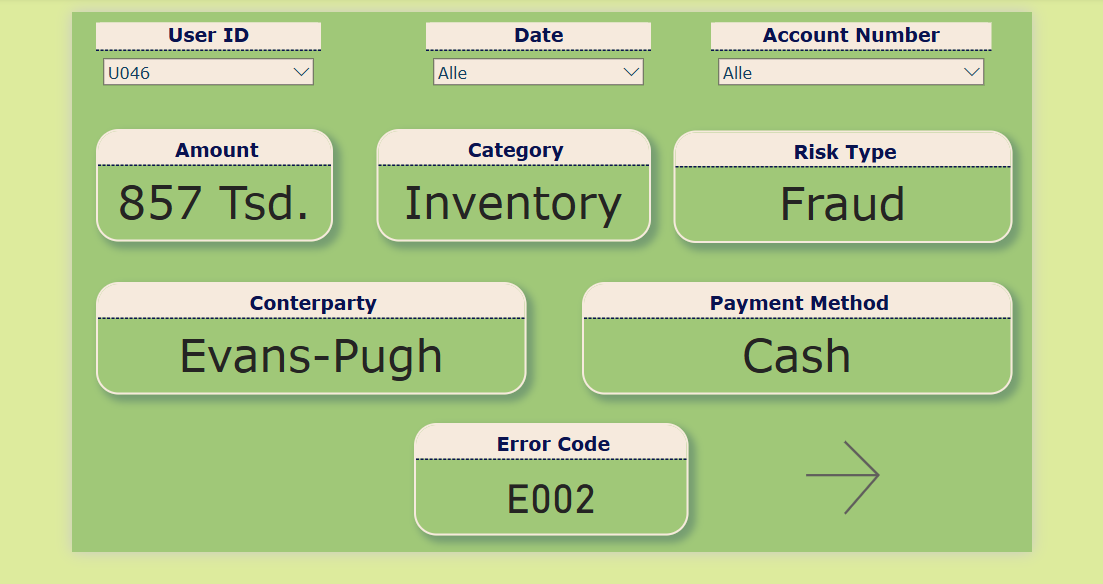

The page's visual inventory and layout, read from the dashboard file:
{"tool":"powerbi","page":{"name":"Seite 1","canvas":[1280,720],"ordinal":0},"visuals":[{"type":"slicer","title":"Date","fields":{"Values":["cleansed_accounting.Date.Variation.Datumshierarchie.Jahr","cleansed_accounting.Date.Variation.Datumshierarchie.Quartal","cleansed_accounting.Date.Variation.Datumshierarchie.Monat","cleansed_accounting.Date.Variation.Datumshierarchie.Tag"]},"box":[472,14,300,122],"z":0},{"type":"slicer","title":"User ID ","fields":{"Values":["cleansed_accounting.User_ID"]},"box":[32,14,300,122],"z":1000},{"type":"slicer","title":"Account Number","fields":{"Values":["cleansed_accounting.Account_Number"]},"box":[852,14,374,160],"z":2000},{"type":"card","title":"Amount","fields":{"Values":["Sum(cleansed_accounting.Amount)"]},"box":[32,156,316,150],"z":3000},{"type":"card","title":"Category","fields":{"Values":["Min(cleansed_accounting.Category)"]},"box":[406,156,366,150],"z":4000},{"type":"card","title":"Conterparty","fields":{"Values":["Min(cleansed_accounting.Counterparty)"]},"box":[32,360,574,150],"z":5000},{"type":"card","title":"Payment Method","fields":{"Values":["Min(cleansed_accounting.Payment_Method)"]},"box":[680,360,574,150],"z":6000},{"type":"card","title":"Risk Type","fields":{"Values":["Min(cleansed_accounting.Risk_Type)"]},"box":[802,158,452,150],"z":7000},{"type":"card","title":"Error Code","fields":{"Values":["Min(cleansed_accounting.Error_Code)"]},"box":[456,548,366,150],"z":8000},{"type":"actionButton","box":[968,562,138,118],"z":9000}]}

Visuals, with their boxes on the page's 1280x720 design canvas (x1, y1, x2, y2). These are canvas units, not pixel positions in the 1103x584 screenshot, which may show the page scaled, cropped or inside an application window:
"Date" slicer: <box>472,14,772,136</box>
"User ID " slicer: <box>32,14,332,136</box>
"Account Number" slicer: <box>852,14,1226,174</box>
"Amount" card: <box>32,156,348,306</box>
"Category" card: <box>406,156,772,306</box>
"Conterparty" card: <box>32,360,606,510</box>
"Payment Method" card: <box>680,360,1254,510</box>
"Risk Type" card: <box>802,158,1254,308</box>
"Error Code" card: <box>456,548,822,698</box>
actionButton: <box>968,562,1106,680</box>
